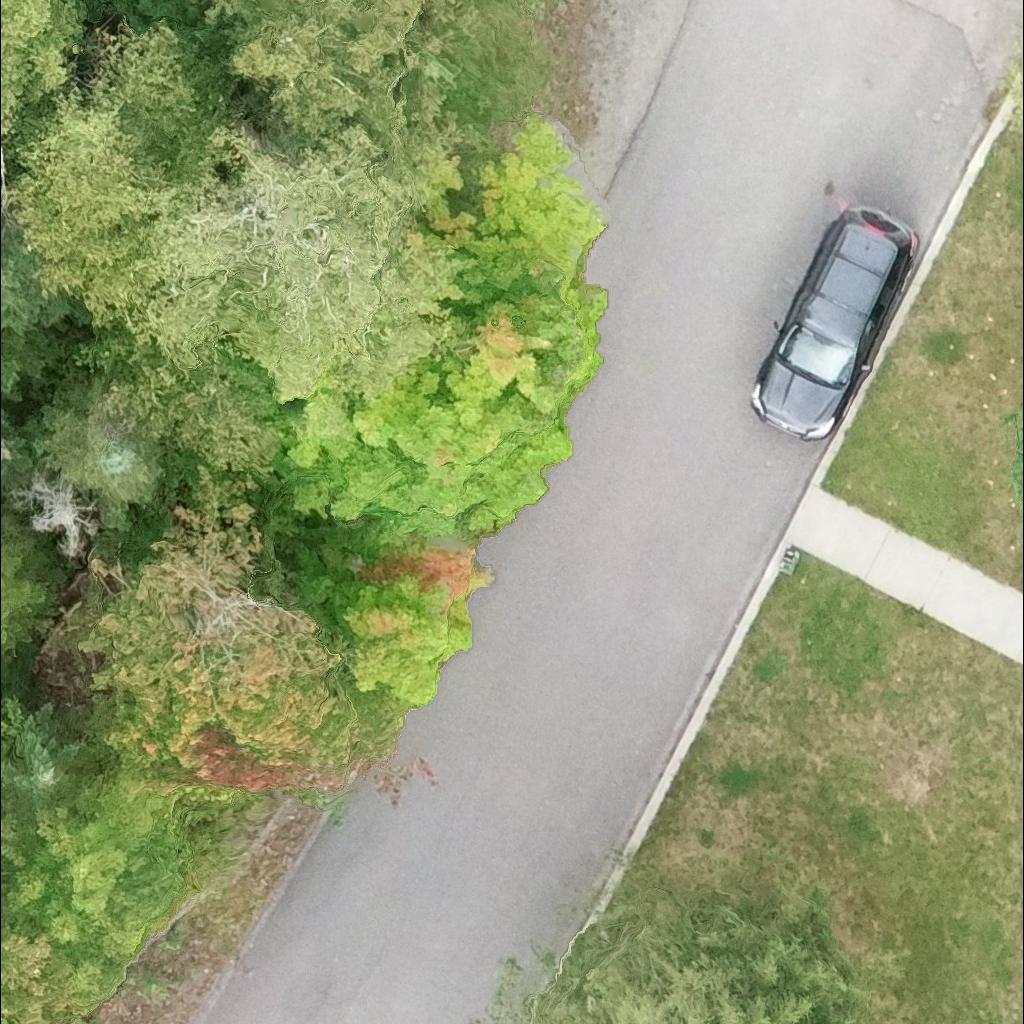crown: (63, 500, 401, 778), (134, 131, 470, 408), (13, 20, 256, 338), (280, 313, 570, 540), (429, 110, 609, 396), (196, 0, 478, 161), (286, 519, 491, 718), (537, 895, 855, 1023), (97, 337, 285, 512), (34, 396, 166, 530), (0, 0, 78, 132), (1, 702, 81, 811), (12, 459, 101, 548), (0, 524, 51, 649), (0, 244, 51, 335), (0, 403, 35, 492), (0, 332, 15, 390)
